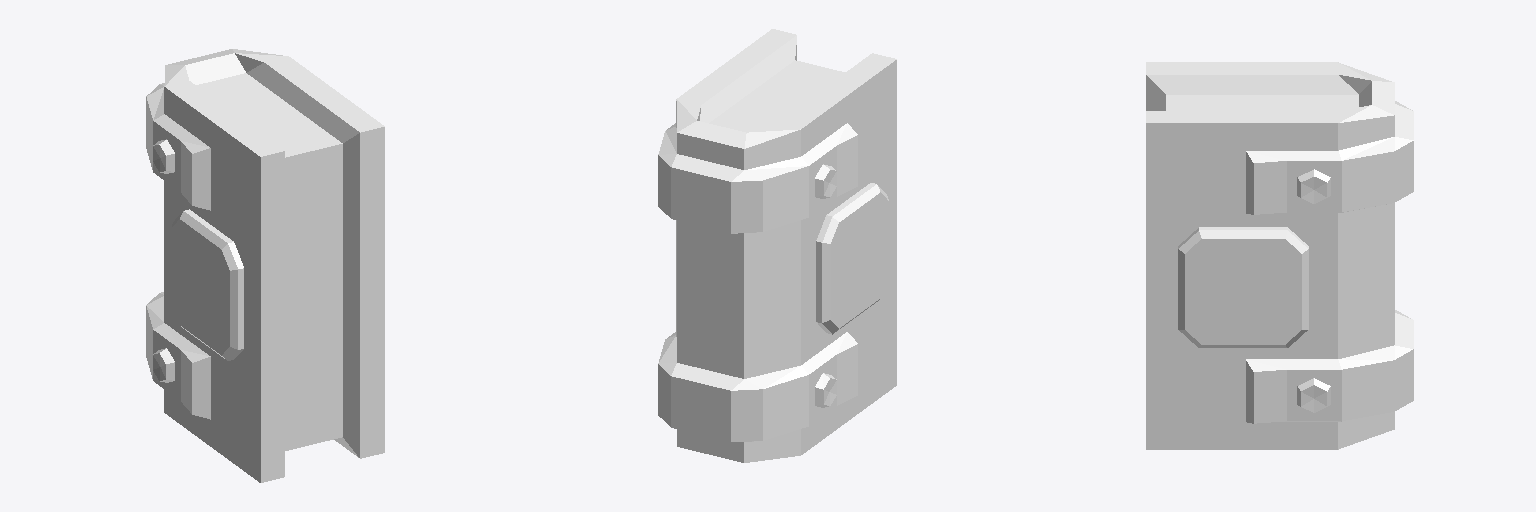
File: paladin_book.obj
3 views of the same model, side by side, from view 1: azimuth 30°, elevation 25°; view 2: azimuth 150°, elevation 25°; view 3: azimuth 270°, elevation 25° (orthographic).
Parts seen in each view (by area): view 1: paladin_book; view 2: paladin_book; view 3: paladin_book.
Part boxes in pixels (bbox=[...]): paladin_book: bbox=[146, 49, 384, 482]; paladin_book: bbox=[658, 29, 896, 462]; paladin_book: bbox=[1146, 62, 1413, 449].
Bounding box in the file's own units: 0.2548 × 0.5 × 0.3714.